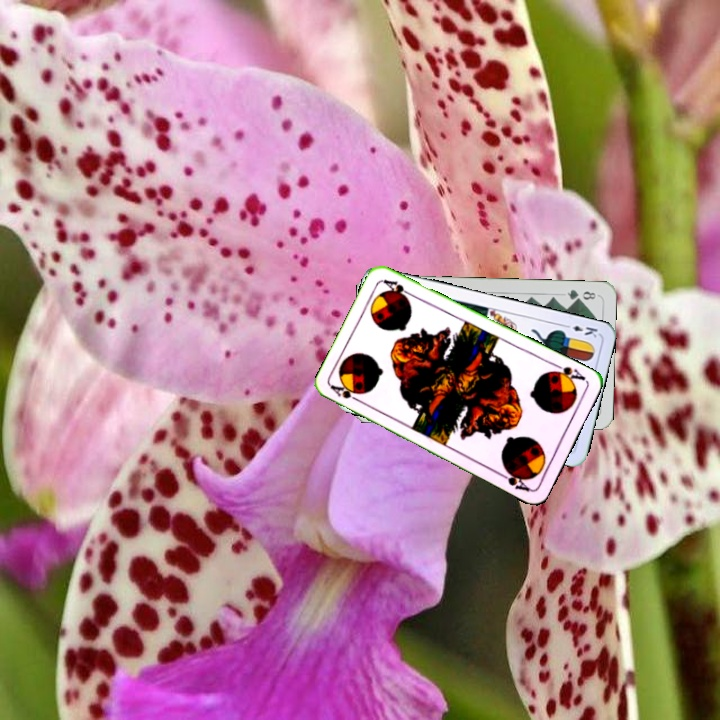EK: (560, 320, 600, 340)
G8: (563, 285, 598, 303)
SA: (547, 359, 588, 386), (327, 381, 365, 406)
